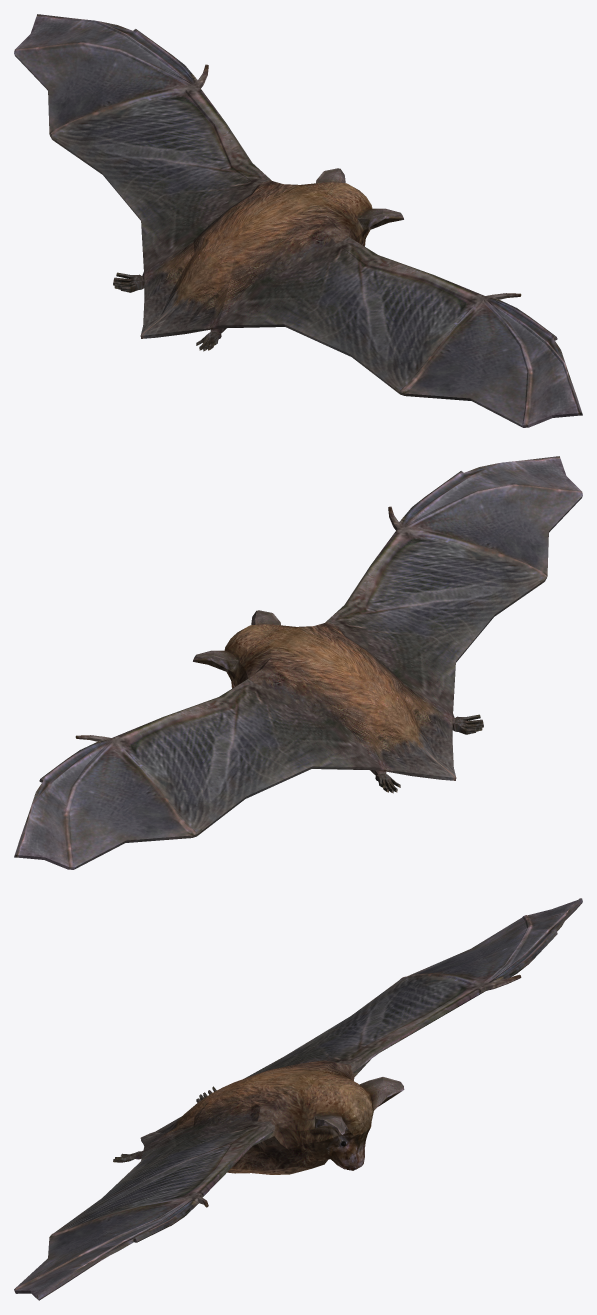
File: BrownBat.obj
3 renders of one model, top to bottom at view 1: azimuth 30°, elevation 25°; view 2: azimuth 150°, elevation 25°; view 3: azimuth 330°, elevation 25°, orthographic.
Parts seen in each view (by area): view 1: Brown_Bat:brown_bat_pivot; view 2: Brown_Bat:brown_bat_pivot; view 3: Brown_Bat:brown_bat_pivot.
Part boxes in pixels (left/top/right/bottom): Brown_Bat:brown_bat_pivot: left=14, top=14, right=582, bottom=427; Brown_Bat:brown_bat_pivot: left=14, top=456, right=582, bottom=869; Brown_Bat:brown_bat_pivot: left=14, top=898, right=582, bottom=1300.
Size of the model in its own units: 0.5292 by 0.2402 by 2.14.
1 material, 1 textured.
